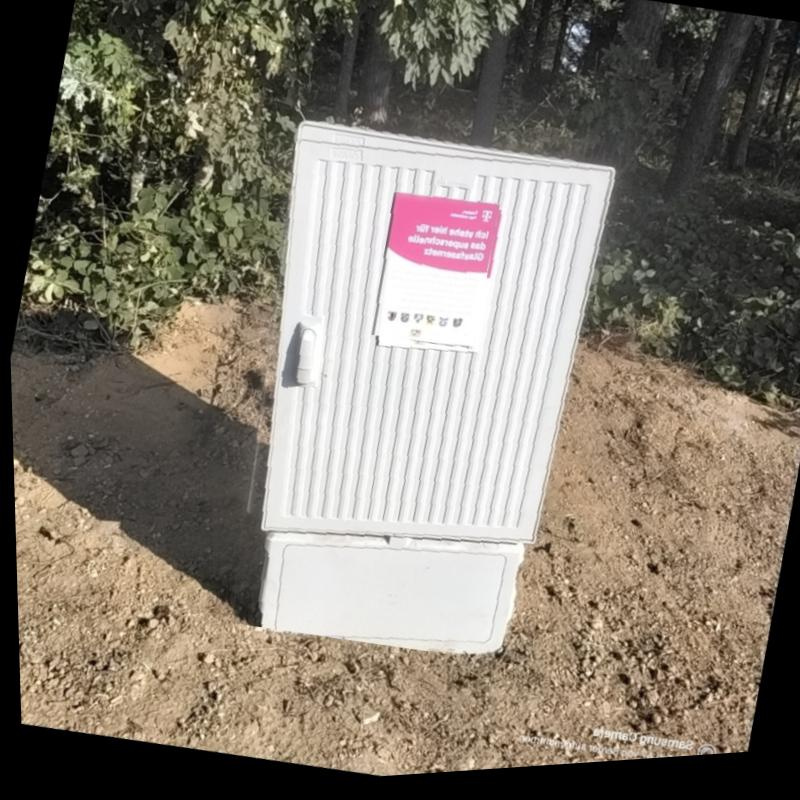NT-Gehause: (194, 110, 628, 690)
Steaker: (363, 189, 502, 362)
